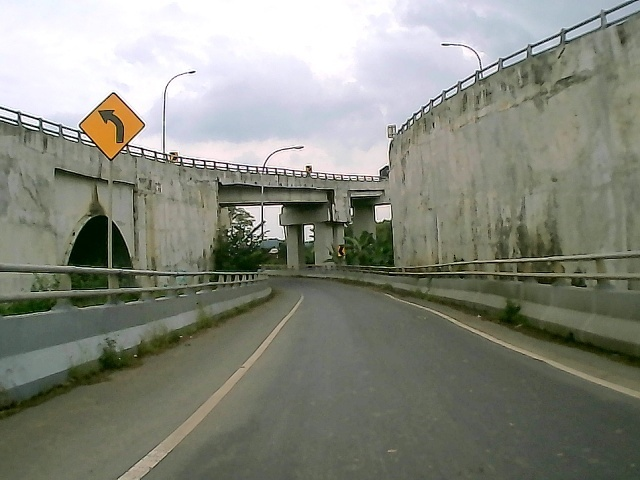Tikungan ke kiri: (78, 88, 149, 164)
